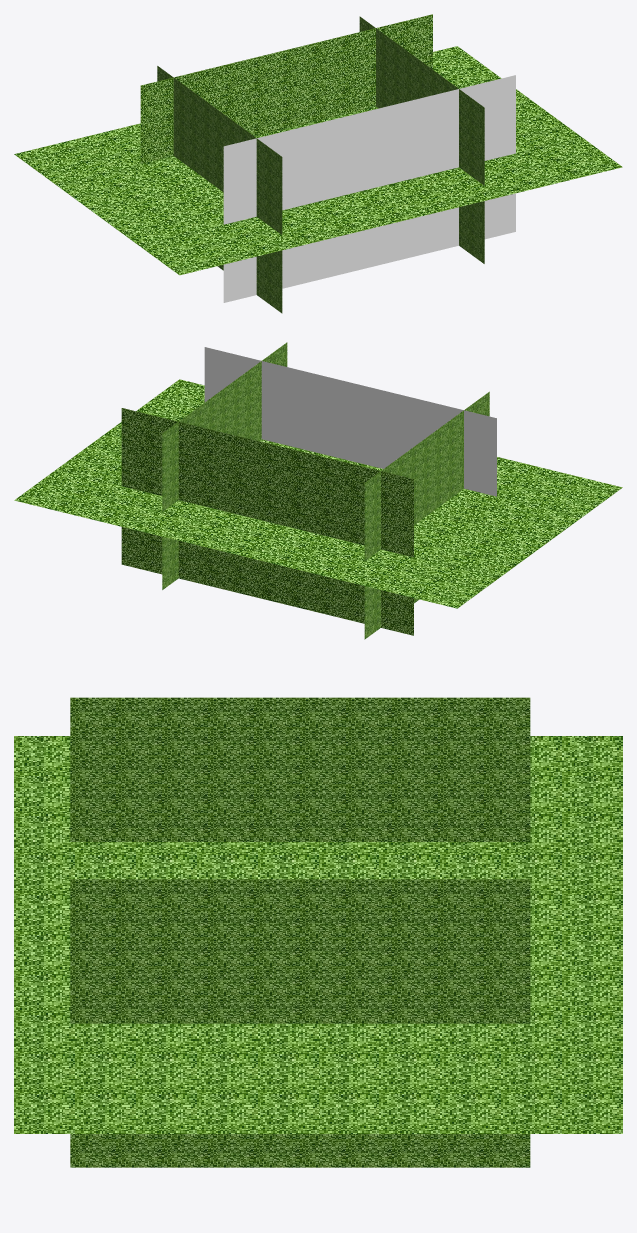
The model's file is hope.gltf.
3 views of the same model, one above another, from view 1: azimuth 30°, elevation 25°; view 2: azimuth 150°, elevation 25°; view 3: azimuth 270°, elevation 25° (orthographic). The views are drawn at different scales.
Visible parts, largest first — view 1: Floor, Floor.003, Floor.004, Floor.001, Floor.002; view 2: Floor, Floor.004, Floor.003, Floor.001, Floor.002; view 3: Floor, Floor.002, Floor.001.
Part boxes in pixels (bbox=[...]): Floor: bbox=[14, 46, 622, 275]; Floor.003: bbox=[223, 75, 515, 302]; Floor.004: bbox=[140, 14, 432, 163]; Floor.001: bbox=[157, 66, 282, 313]; Floor.002: bbox=[359, 16, 484, 263]; Floor: bbox=[14, 379, 622, 608]; Floor.004: bbox=[121, 408, 413, 635]; Floor.003: bbox=[204, 347, 496, 496]; Floor.001: bbox=[364, 391, 489, 639]; Floor.002: bbox=[162, 342, 287, 589]; Floor: bbox=[14, 736, 622, 1133]; Floor.002: bbox=[70, 879, 530, 1167]; Floor.001: bbox=[70, 697, 530, 841].
Bounding box in the file's own units: 68.47 × 23.13 × 44.28.
Materials: 6 (5 with a texture image).
